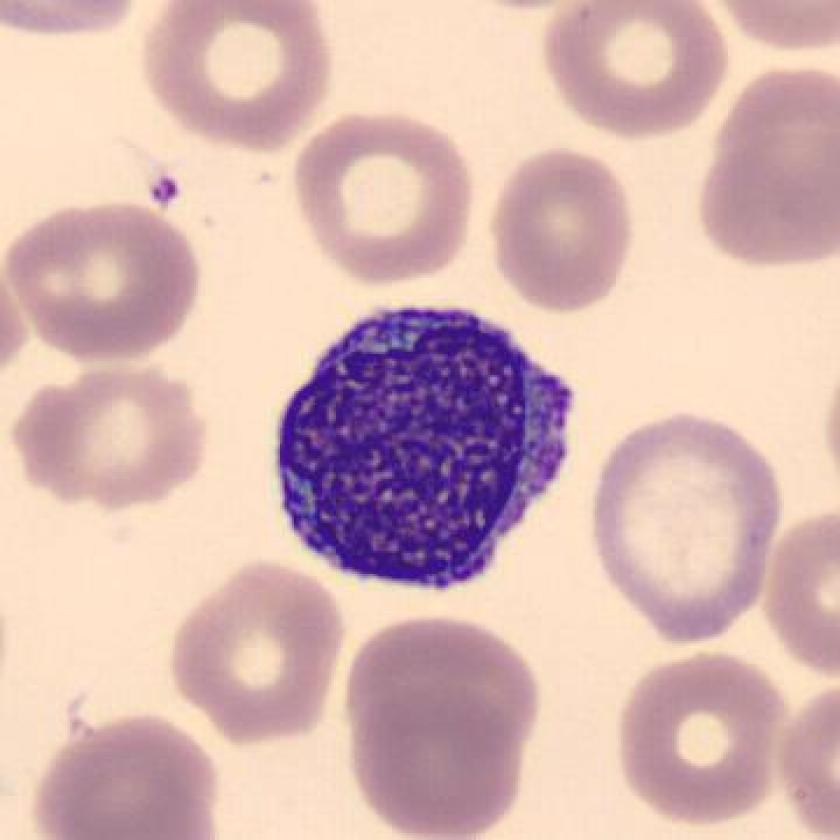monocyte: (256, 283, 606, 610)
